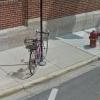Bicycle: (13, 22, 51, 81)
